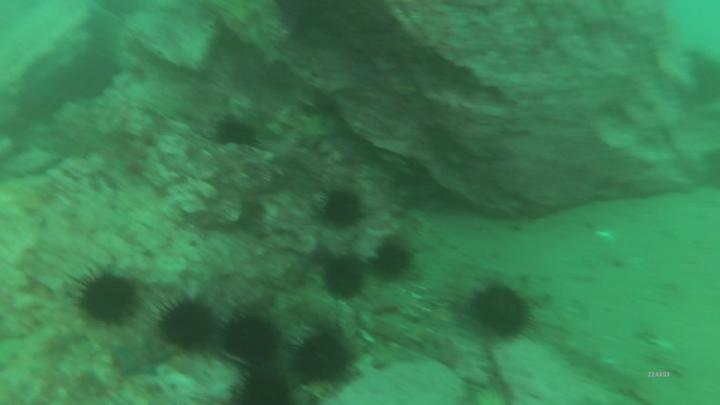echinus: (64, 263, 140, 330), (290, 326, 363, 389), (466, 276, 532, 343), (153, 292, 217, 358), (221, 310, 283, 367), (224, 365, 295, 405), (320, 251, 370, 305), (317, 184, 367, 233), (371, 238, 417, 283), (208, 115, 259, 153)
starfish: (108, 337, 170, 381)
